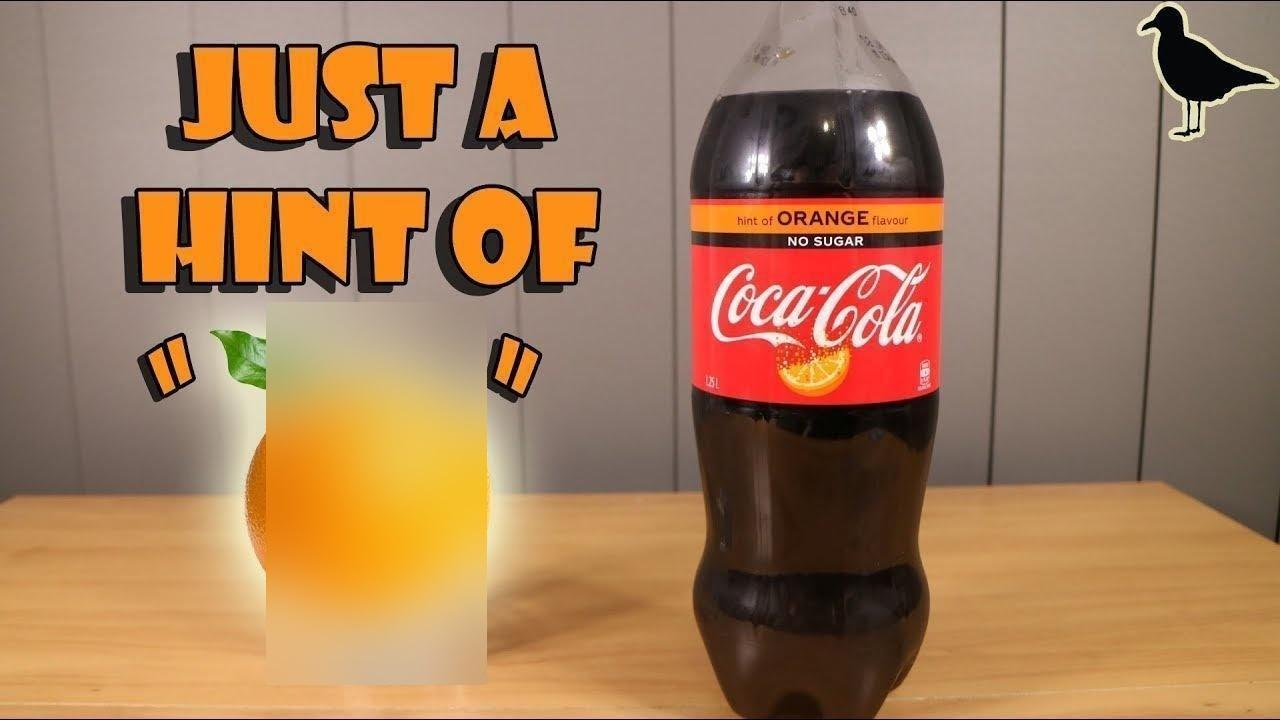bottle-plastic: (677, 1, 954, 719)
